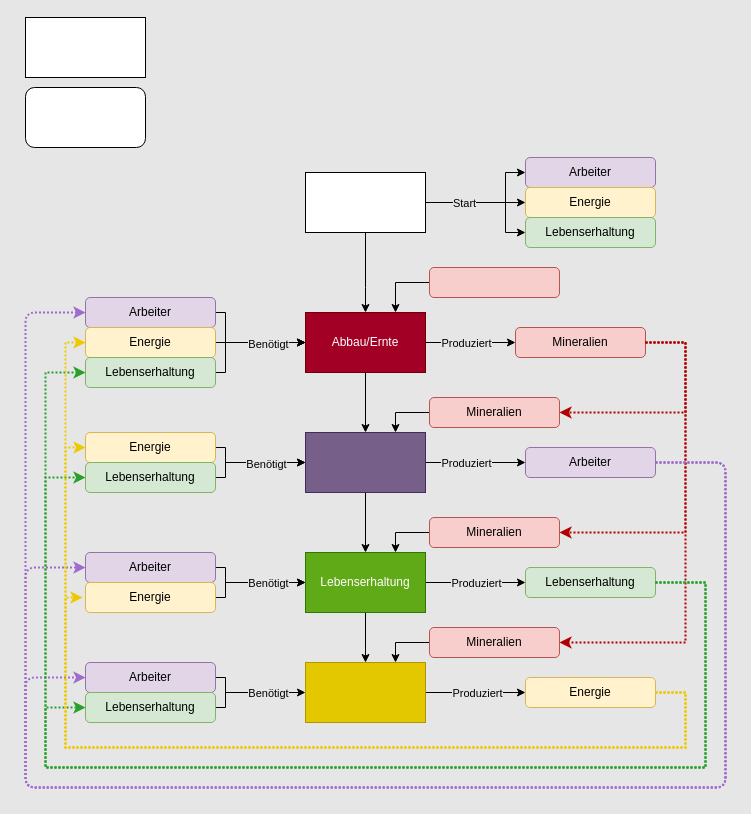
This 751x814 diagram has some shape labels left out. The box of each missing label's shape, as (x1, y1, x2, y2) in pixels:
Basismodul: (304, 172, 426, 232)
Energieversorgung: (304, 662, 426, 722)
Module: (24, 16, 146, 78)
Ressourcen: (24, 86, 146, 148)
Tutorial Mineralien: (428, 266, 560, 298)
Wohneinheit: (304, 432, 426, 492)
